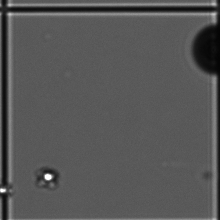Living Cell: (38, 165, 64, 186), (1, 185, 14, 199)
